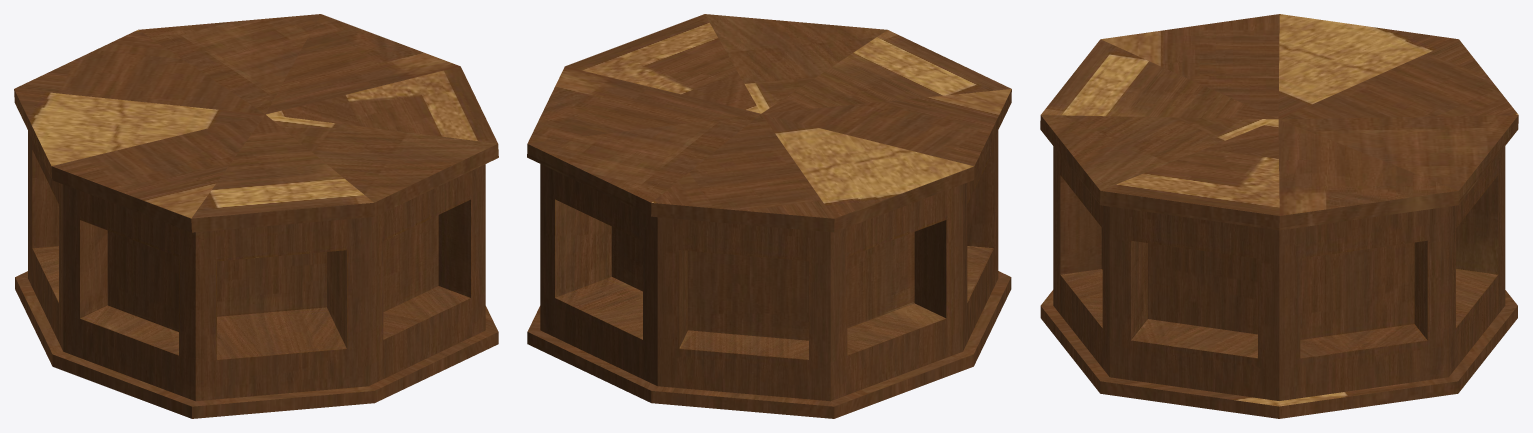
File: Drumm.fbx
3 renders of one model, left to right at view 1: azimuth 30°, elevation 25°; view 2: azimuth 150°, elevation 25°; view 3: azimuth 270°, elevation 25°, orthographic.
Parts seen in each view (by area): view 1: Copper, Drumm; view 2: Copper, Drumm; view 3: Copper, Drumm.
Boxes of the visible parts, x1,y1,x2,y2 form: Copper: (14, 14, 498, 418); Drumm: (28, 131, 485, 401); Copper: (527, 14, 1011, 418); Drumm: (540, 130, 998, 401); Copper: (1040, 14, 1518, 418); Drumm: (1053, 146, 1505, 400).
Size of the model in its own units: 2.12 by 0.9904 by 2.12.
